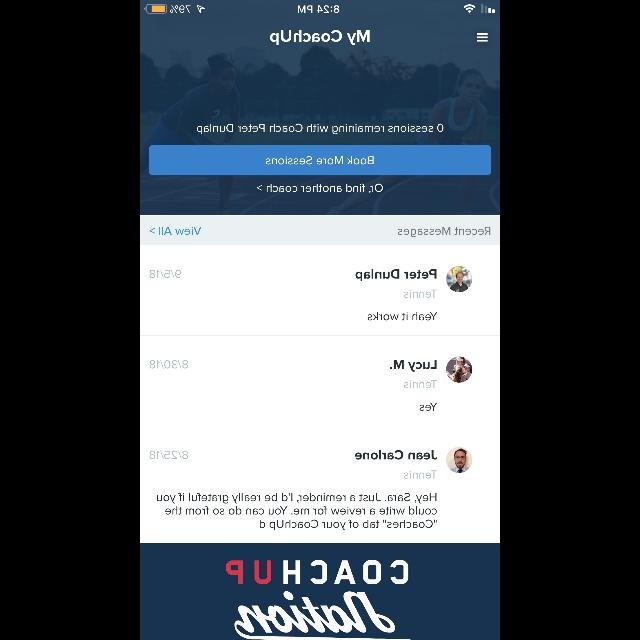icon: (477, 34, 488, 42), (257, 185, 263, 191), (149, 228, 155, 234)
image: (140, 1, 500, 216), (226, 560, 408, 640), (446, 447, 472, 473), (446, 357, 472, 383), (446, 266, 472, 292)
text: (157, 494, 437, 530), (196, 124, 444, 134), (270, 30, 370, 46), (267, 184, 383, 194), (398, 226, 490, 238), (356, 269, 436, 281), (355, 450, 437, 460), (389, 360, 436, 372), (367, 312, 437, 320), (150, 450, 188, 460), (150, 359, 188, 368), (159, 227, 201, 235), (404, 290, 436, 298), (404, 380, 436, 388), (404, 471, 436, 479), (150, 270, 180, 278), (419, 403, 437, 411)
textbutton: (149, 144, 491, 176)
uppertaskbar: (140, 0, 500, 14)
